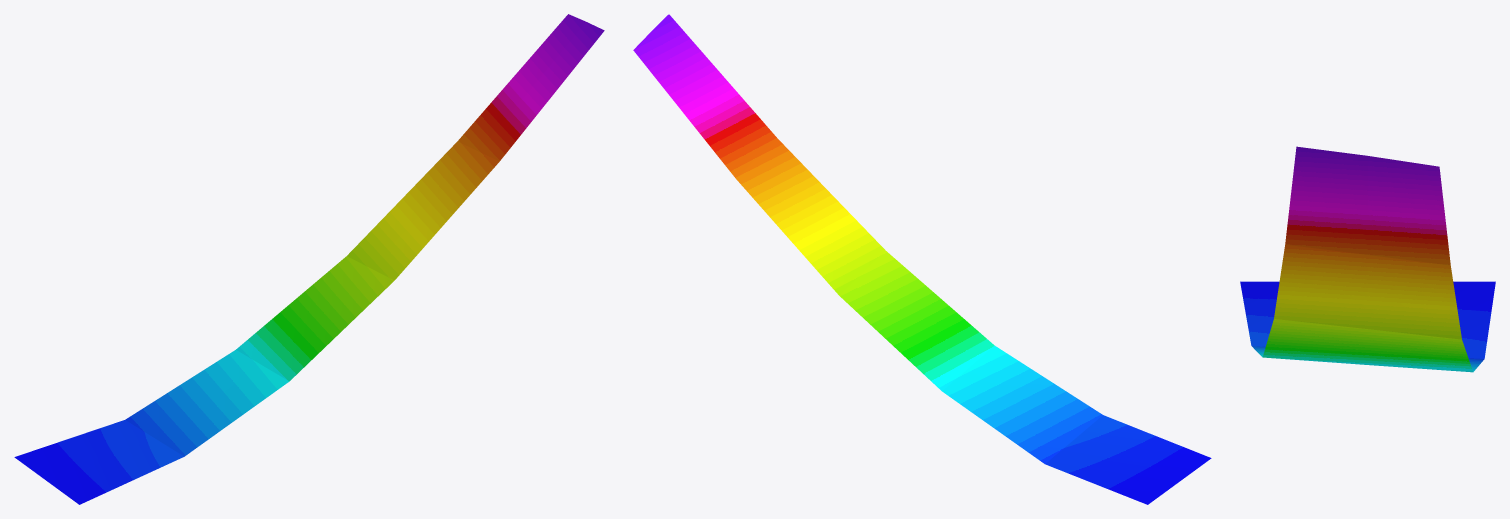
3 views of the same model, side by side, from view 1: azimuth 30°, elevation 25°; view 2: azimuth 150°, elevation 25°; view 3: azimuth 270°, elevation 25° (orthographic). The views are drawn at different scales.
Parts seen in each view (by area): view 1: Elements; view 2: Elements; view 3: Elements.
Boxes of the visible parts, left/top/right/bottom form: Elements: left=14, top=14, right=604, bottom=504; Elements: left=633, top=14, right=1211, bottom=504; Elements: left=1240, top=146, right=1495, bottom=372.
Size of the model in its own units: 1 by 0.5883 by 0.2095.
Materials: 1 (1 with a texture image).
